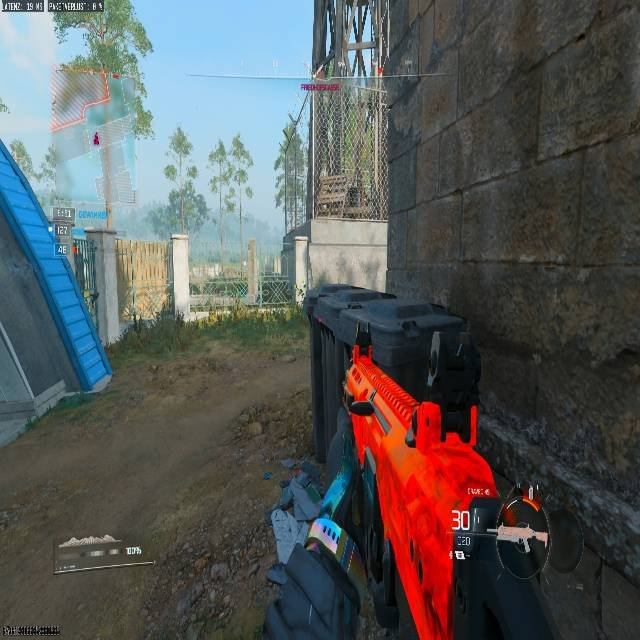player: (296, 282, 306, 307)
